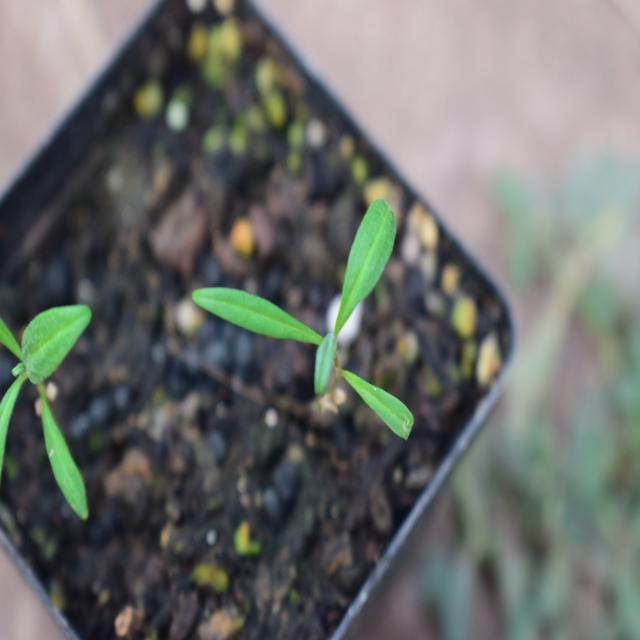white_smart_weed: (183, 190, 436, 458)
